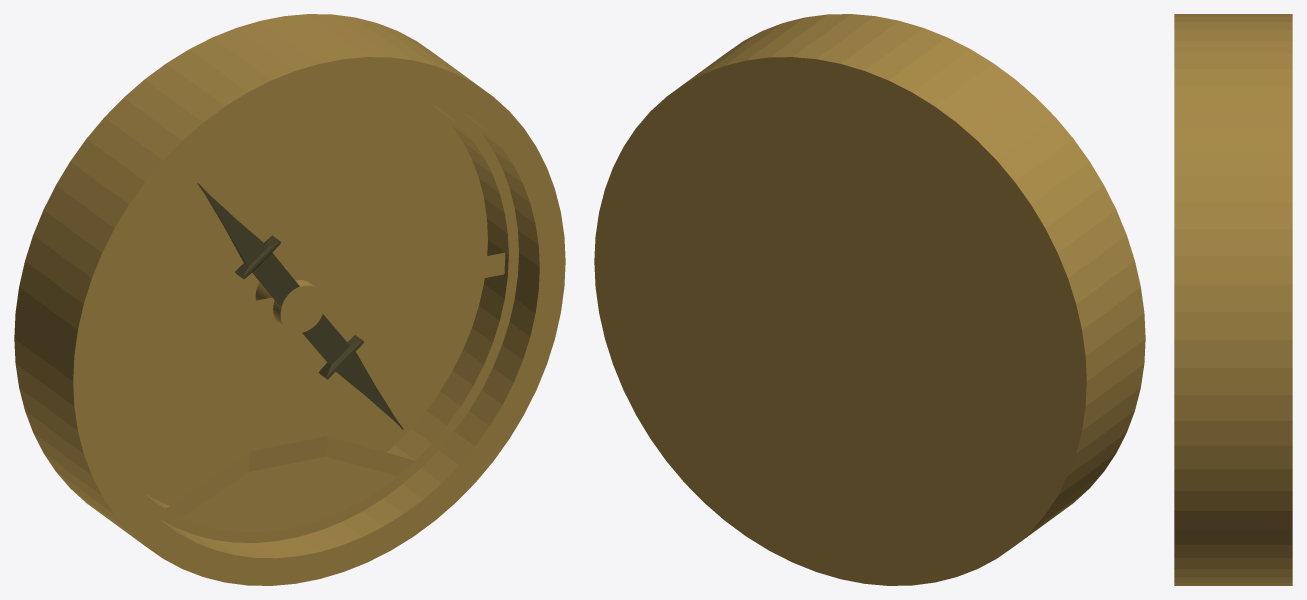
Rendered from astrolábio.fbx.
The picture shows the model from 3 angles, left to right: view 1: azimuth 30°, elevation 25°; view 2: azimuth 150°, elevation 25°; view 3: azimuth 270°, elevation 25°; orthographic projection.
Parts seen in each view (by area): view 1: Cube.001; view 2: Cube.001; view 3: Cube.001.
Part boxes in pixels (bbox=[...]): Cube.001: bbox=[14, 14, 565, 585]; Cube.001: bbox=[594, 14, 1145, 585]; Cube.001: bbox=[1174, 14, 1292, 585].
Bounding box in the file's own units: 85.55 × 85.55 × 17.7.
